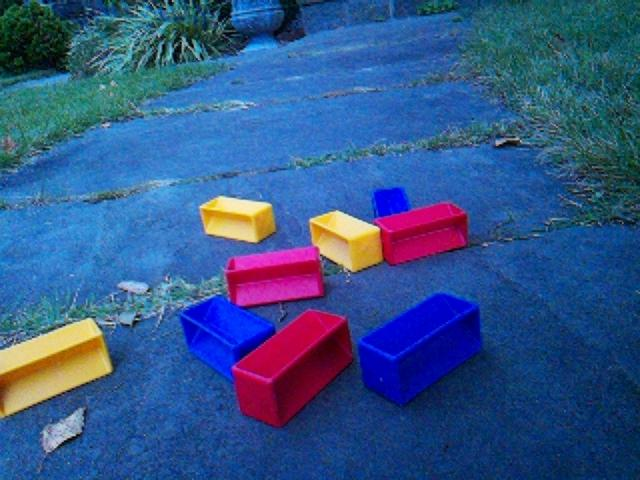blue: (357, 290, 484, 407), (178, 293, 276, 384), (371, 185, 412, 219)
red: (231, 307, 355, 428), (223, 244, 327, 308), (373, 199, 470, 266)
yellow: (1, 316, 115, 420), (308, 208, 384, 273), (198, 193, 278, 245)
